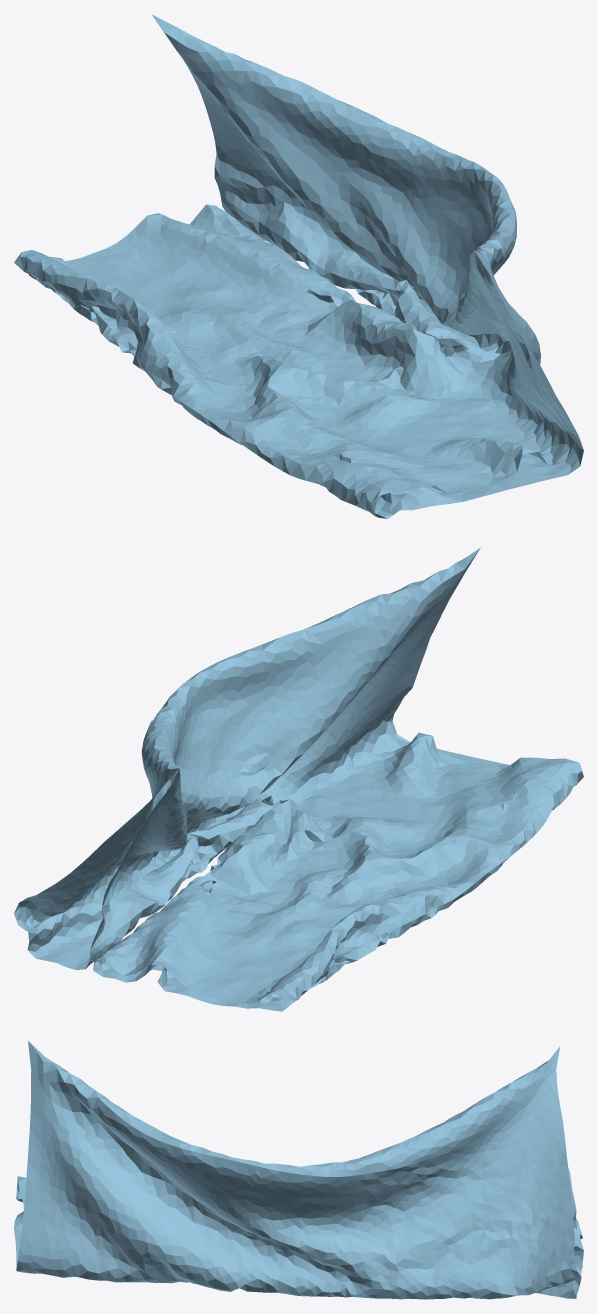
Rendered from frame_14.glb.
3 views of the same model, one above another, from view 1: azimuth 30°, elevation 25°; view 2: azimuth 150°, elevation 25°; view 3: azimuth 270°, elevation 25° (orthographic). The views are drawn at different scales.
Parts seen in each view (by area): view 1: frame_14.obj; view 2: frame_14.obj; view 3: frame_14.obj.
Part boxes in pixels (x1,y1,x2,y2): frame_14.obj: (14, 14, 583, 518); frame_14.obj: (14, 547, 583, 1011); frame_14.obj: (14, 1041, 583, 1299).
Bounding box in the file's own units: 0.8288 × 0.624 × 1.6.
